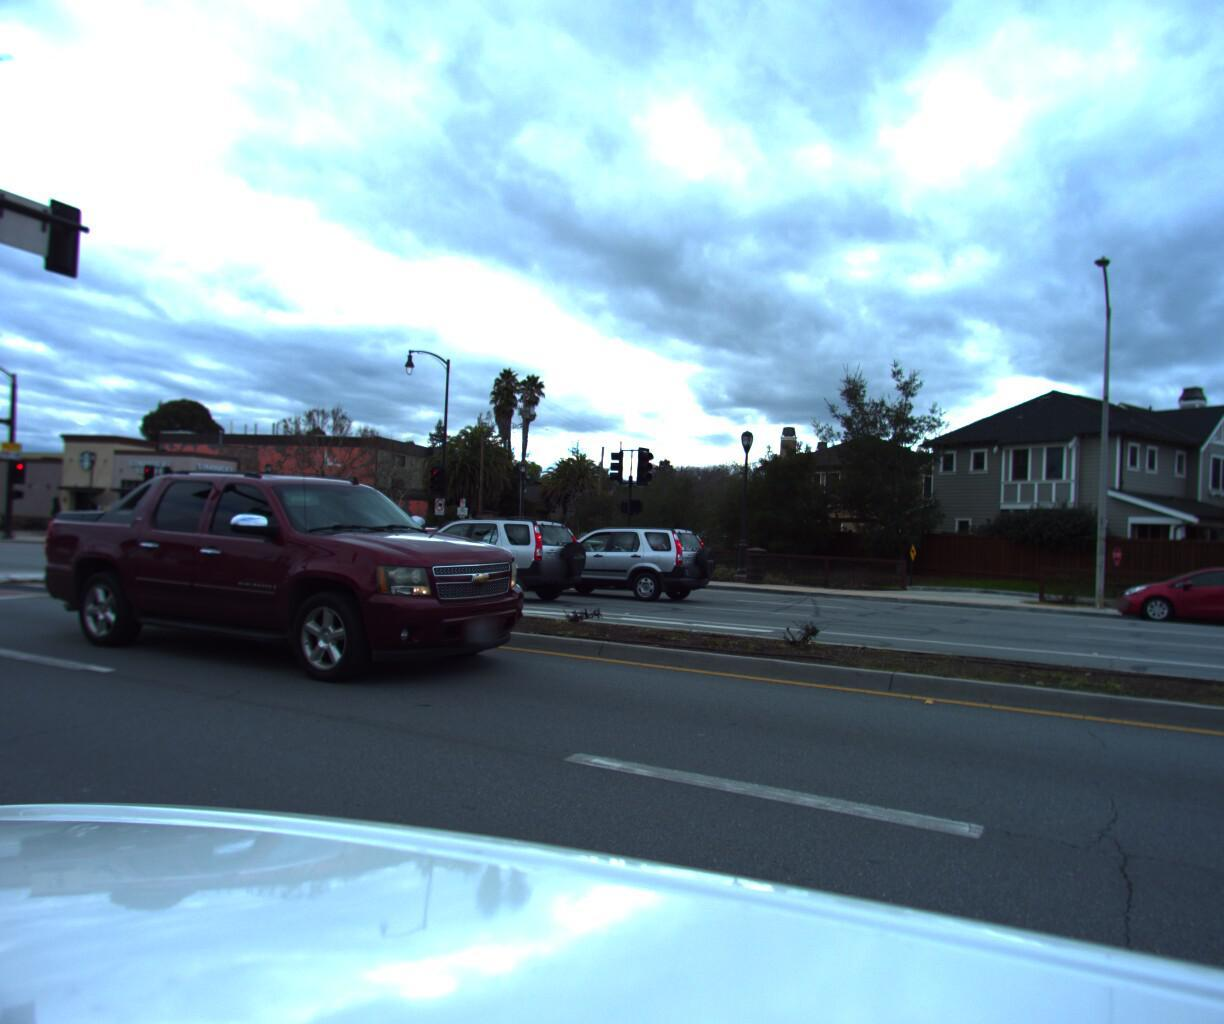car: (21, 464, 553, 707), (358, 505, 602, 611), (519, 522, 731, 610), (1100, 562, 1224, 639)
